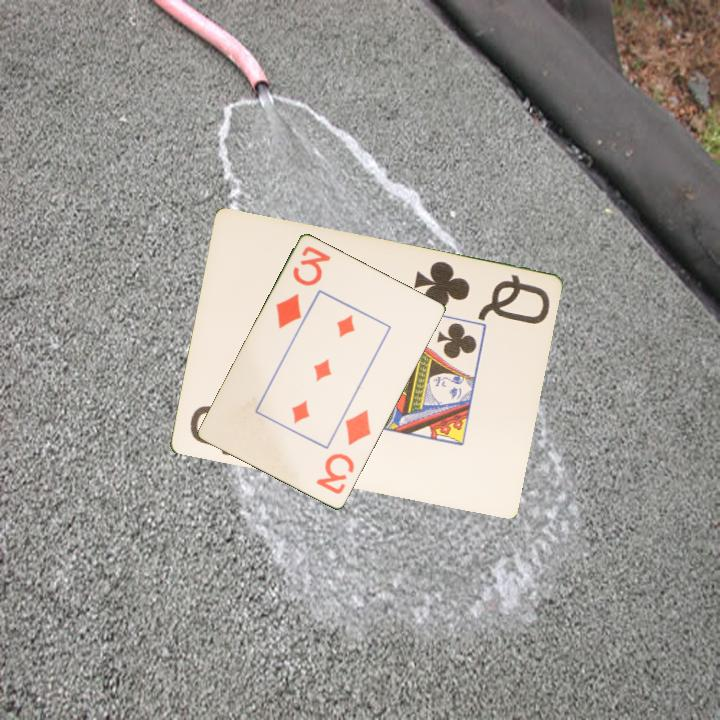3d: (313, 406, 374, 498), (272, 243, 334, 332)
Qc: (410, 257, 553, 328)
